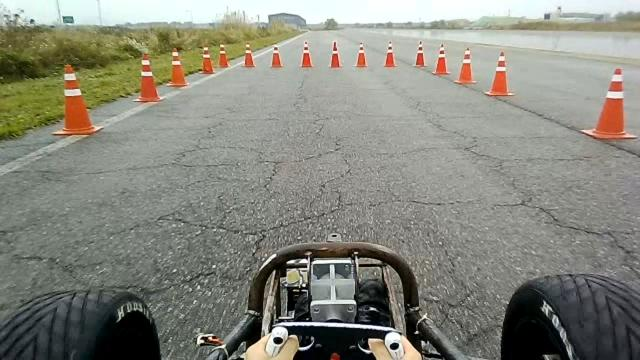red cone: (580, 67, 637, 140), (51, 64, 104, 137), (132, 52, 164, 102), (484, 51, 514, 96), (454, 46, 478, 84), (166, 47, 188, 87), (432, 43, 451, 75), (198, 46, 215, 74), (328, 40, 342, 68), (383, 40, 397, 67), (413, 40, 427, 67), (299, 40, 313, 67), (241, 42, 256, 67), (354, 41, 368, 67), (217, 43, 230, 68), (270, 44, 283, 67)
